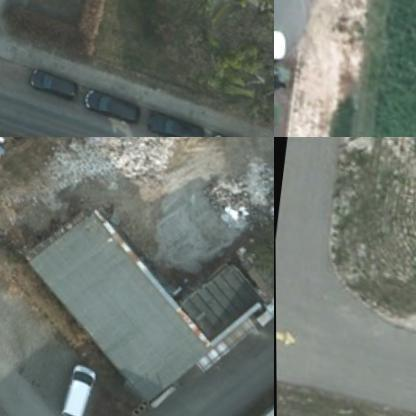car: (80, 85, 140, 125), (58, 358, 94, 415), (19, 65, 79, 98), (140, 105, 202, 136), (206, 125, 265, 136)
